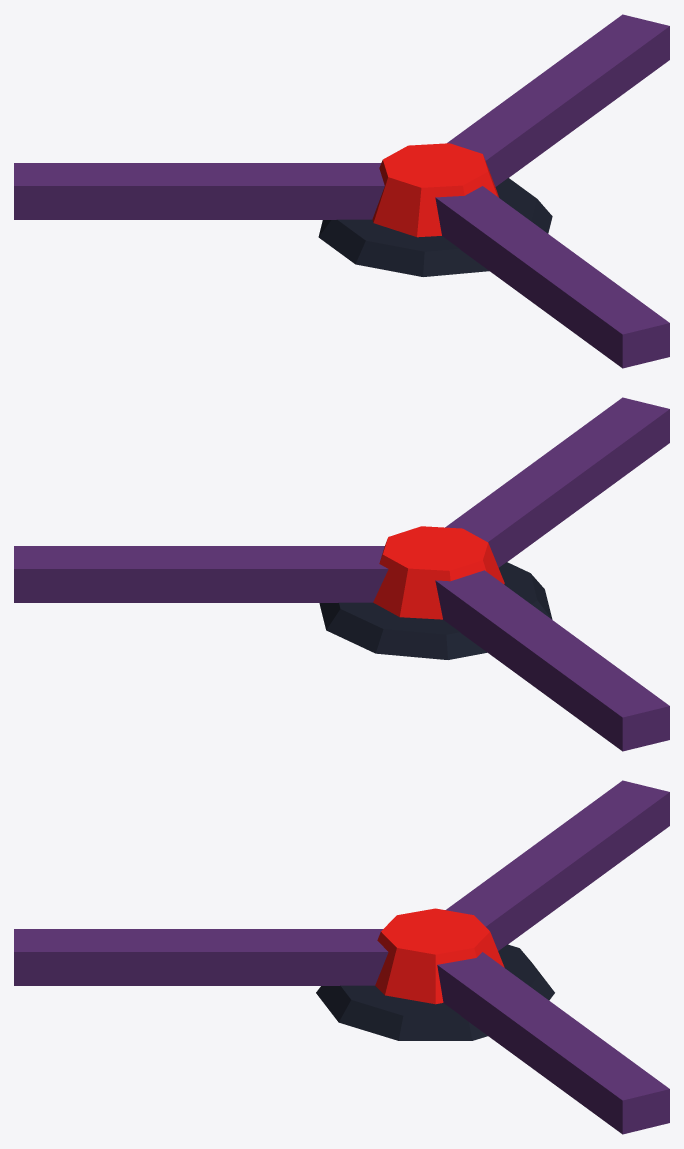
File: spinner_hub.obj
3 views of the same model, one above another, from view 1: azimuth 30°, elevation 25°; view 2: azimuth 150°, elevation 25°; view 3: azimuth 270°, elevation 25° (orthographic).
Parts seen in each view (by area): view 1: spinner_hub; view 2: spinner_hub; view 3: spinner_hub.
Boxes of the visible parts, left/top/right/bottom form: spinner_hub: left=14, top=14, right=669, bottom=368; spinner_hub: left=14, top=397, right=669, bottom=751; spinner_hub: left=14, top=780, right=669, bottom=1134.
Bounding box in the file's own units: 14.55 × 1.3 × 12.6.
